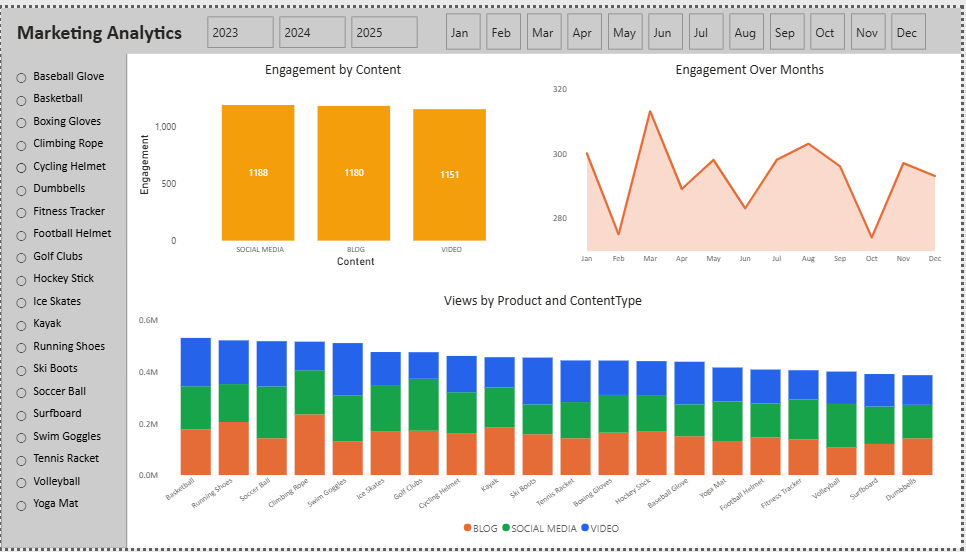

What the dashboard file says about the page in this screenshot:
{"tool":"powerbi","page":{"name":"Customer Engagement","canvas":[1280,720],"ordinal":2},"visuals":[{"type":"listSlicer","fields":{"Values":["dim_products.productname"]},"box":[0,53.3,168.9,666.7],"z":0},{"type":"shape","box":[0,0,1280,61.1],"z":1000},{"type":"textbox","box":[15.1,9.1,240.9,44.3],"z":2000},{"type":"advancedSlicerVisual","fields":{"Values":["Calendar.Year"]},"box":[269.1,5,292.3,52.4],"z":3000},{"type":"advancedSlicerVisual","fields":{"Values":["Calendar.MonthNameShort"]},"box":[568.4,1,699.5,58.5],"z":4000},{"type":"columnChart","fields":{"Category":["fact_engagement_data.ContentType"],"Y":["Count(fact_engagement_data.EngagementID)"]},"box":[178.3,70.5,529.6,279.8],"z":5000},{"type":"lineChart","title":"Engagement Over Months","fields":{"Y":["Count(fact_engagement_data.EngagementID)"],"Category":["Calendar.MonthNameShort"]},"box":[730.7,70.5,536.9,279.8],"z":6000},{"type":"columnChart","fields":{"Category":["dim_products.productname"],"Y":["_Calculation.Views"],"Series":["fact_engagement_data.ContentType"]},"box":[178.3,378.3,1089.3,333.7],"z":6001}]}

Visuals, with their boxes in screenshot pixels (x1, y1, x2, y2), scaled from the page's 1280x720 canvas onto the 966x552 screenshot:
listSlicer - dim_products.productname: Rect(0, 41, 127, 551)
shape: Rect(0, 0, 965, 47)
textbox: Rect(11, 7, 193, 41)
advancedSlicerVisual - Calendar.Year: Rect(203, 4, 424, 44)
advancedSlicerVisual - Calendar.MonthNameShort: Rect(429, 1, 957, 46)
columnChart - fact_engagement_data.ContentType x Count(fact_engagement_data.EngagementID): Rect(135, 54, 534, 269)
"Engagement Over Months" lineChart: Rect(551, 54, 957, 269)
columnChart - dim_products.productname x _Calculation.Views: Rect(135, 290, 957, 546)
